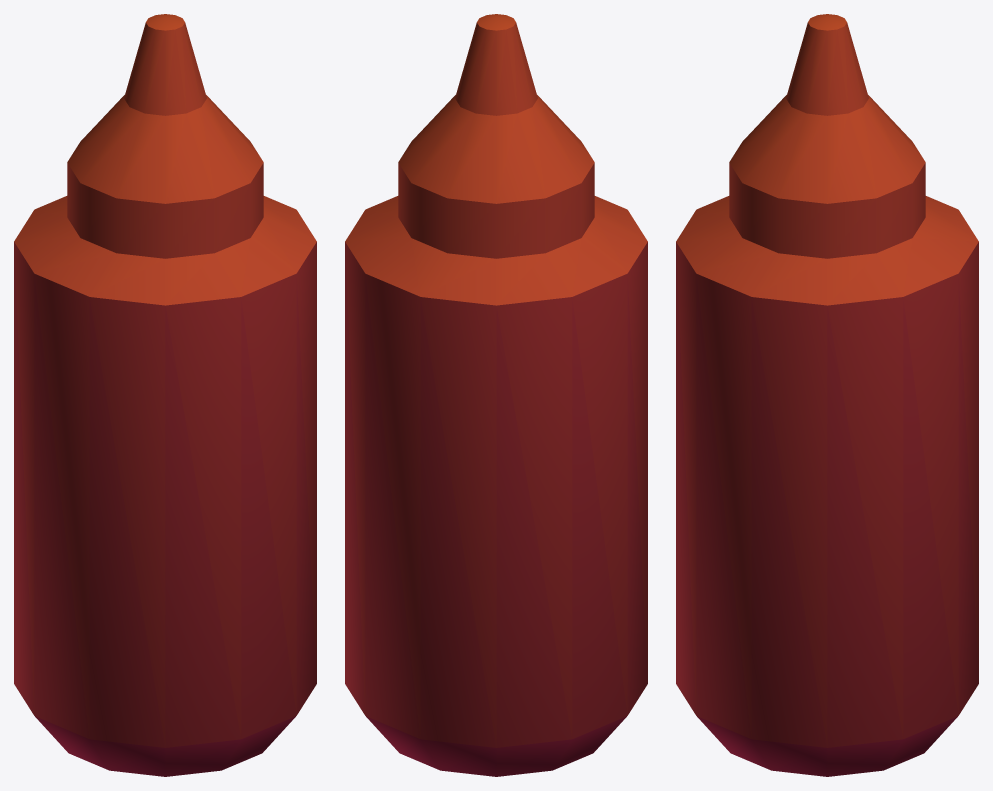
The model's file is kk_restaurant_ketchup.glb.
The picture shows the model from 3 angles, left to right: view 1: azimuth 30°, elevation 25°; view 2: azimuth 150°, elevation 25°; view 3: azimuth 270°, elevation 25°; orthographic projection.
Parts seen in each view (by area): view 1: kk_restaurant_ketchup; view 2: kk_restaurant_ketchup; view 3: kk_restaurant_ketchup.
Boxes of the visible parts, bbox=[...] form: kk_restaurant_ketchup: bbox=[14, 14, 316, 776]; kk_restaurant_ketchup: bbox=[345, 14, 647, 776]; kk_restaurant_ketchup: bbox=[676, 14, 978, 776].
Size of the model in its own units: 0.3 by 0.7785 by 0.3.
